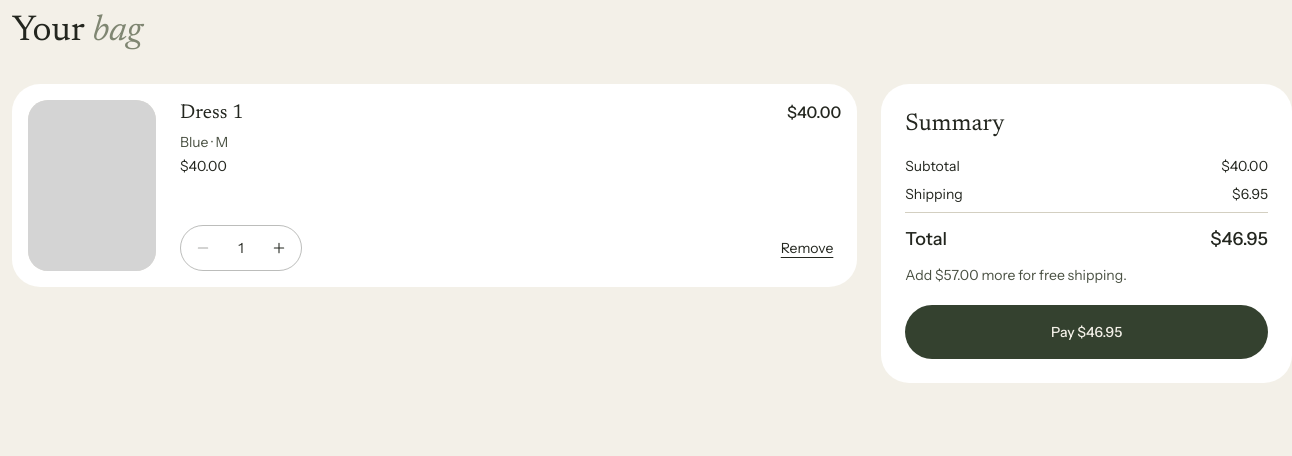
it: CartPage › Pay › removes the message once the shopper changes the bag
Step 1. Click the button "Pay $46.95" → (1087, 332), box [905, 305, 1268, 359]
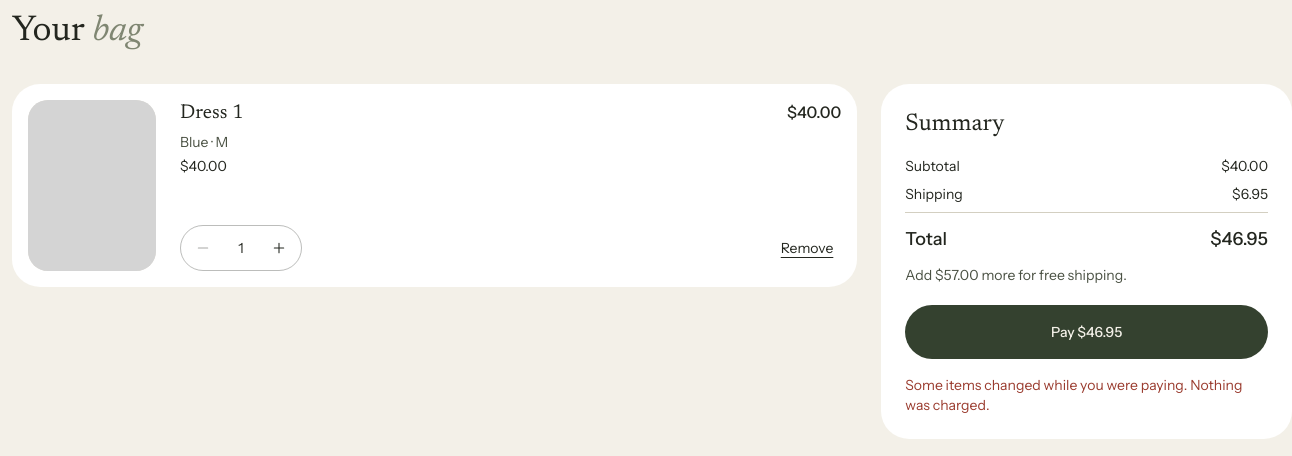
Expected: the text "Some items changed while you were paying. Nothing was charged." is shown, [905, 375, 1268, 415]
Step 2. Click the button named "Increase quantity" → (279, 248), box [257, 226, 301, 270]
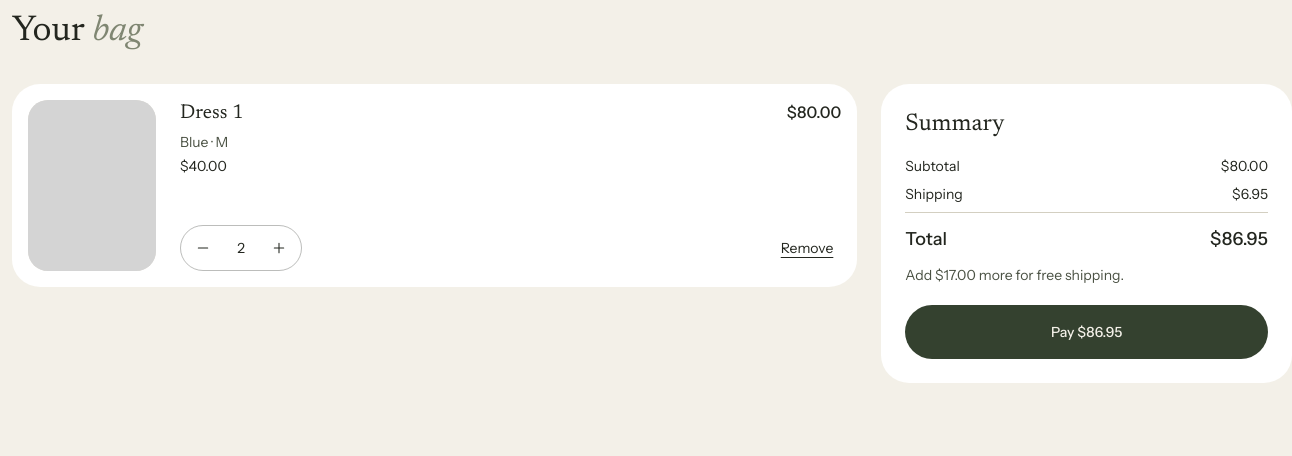
Expected: the text "Some items changed while you were paying. Nothing was charged." is gone
